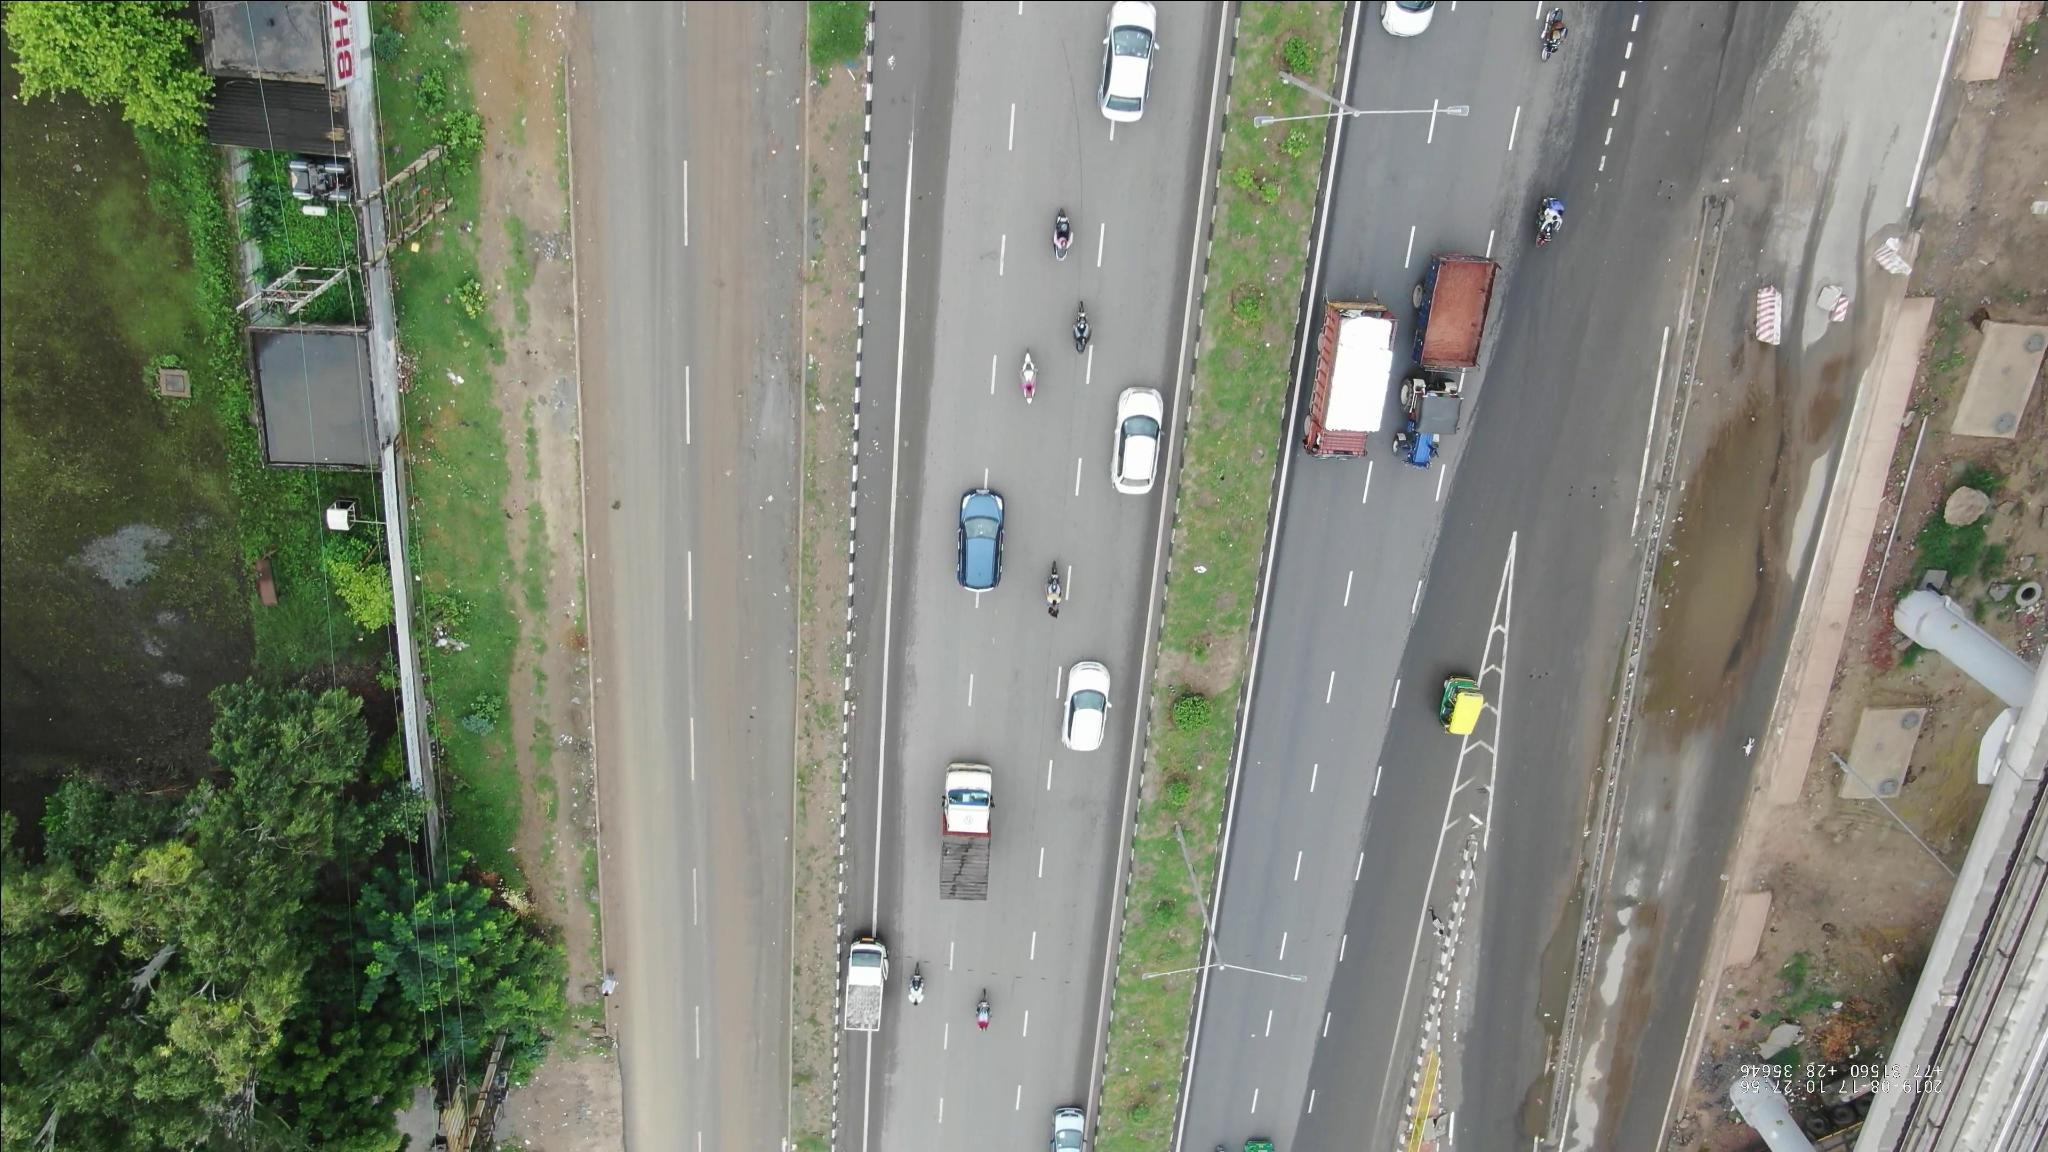Muddy_road: (698, 23, 803, 322), (700, 346, 800, 632), (710, 896, 793, 1120), (717, 655, 792, 882)
Waterlogging: (1644, 444, 1807, 710), (1526, 859, 1587, 1042), (1495, 1072, 1564, 1151)
